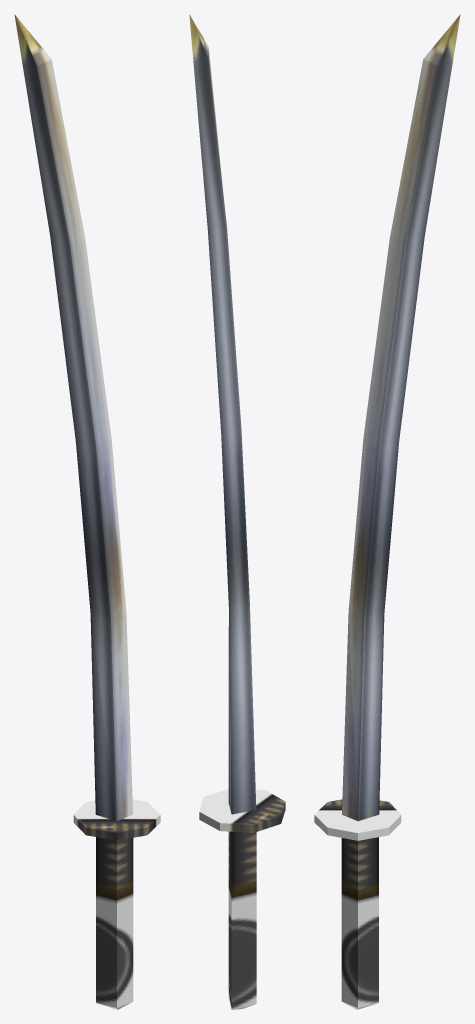
File: blademaster08.obj
3 renders of one model, left to right at view 1: azimuth 90°, elevation 25°; view 2: azimuth 150°, elevation 25°; view 3: azimuth 270°, elevation 25°, orthographic. The views are drawn at different scales.
Visible parts, largest first — view 1: blademaster08; view 2: blademaster08; view 3: blademaster08.
Boxes of the visible parts, x1,y1,x2,y2 form: blademaster08: (14,14,160,1009); blademaster08: (189,14,285,1009); blademaster08: (314,14,460,1009).
Size of the model in its own units: 0.1388 by 1.77 by 0.235.
